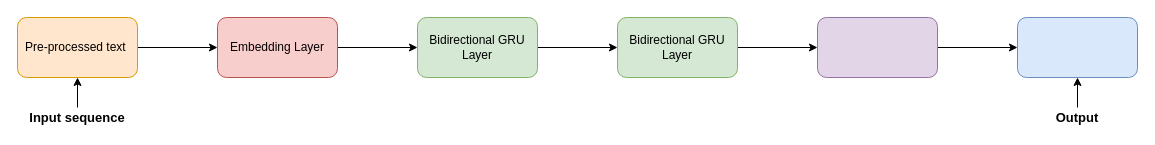
Image size: 1155x145. Some labels were removed from this diagram. Here are the shapes that lost their labels. From the top down, the centre of each, then its label:
At (877,47): "Fully Connected layer with dropout".
At (1077,47): "probability of sentiment being positive or negative".
